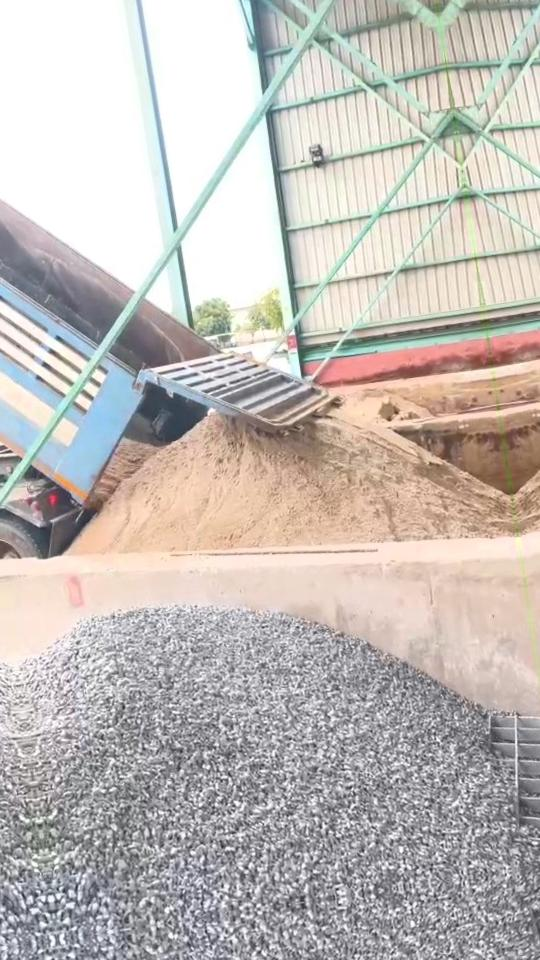gravel: (16, 607, 540, 939)
sand: (70, 410, 514, 554), (87, 438, 157, 509), (343, 389, 430, 422)
